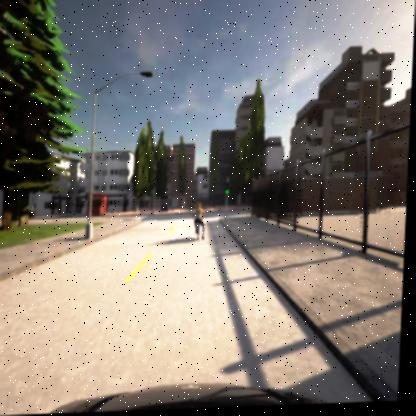bike: (193, 203, 208, 240)
